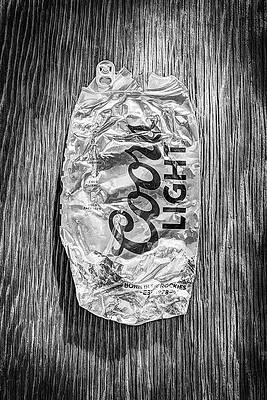can: (58, 59, 204, 326)
